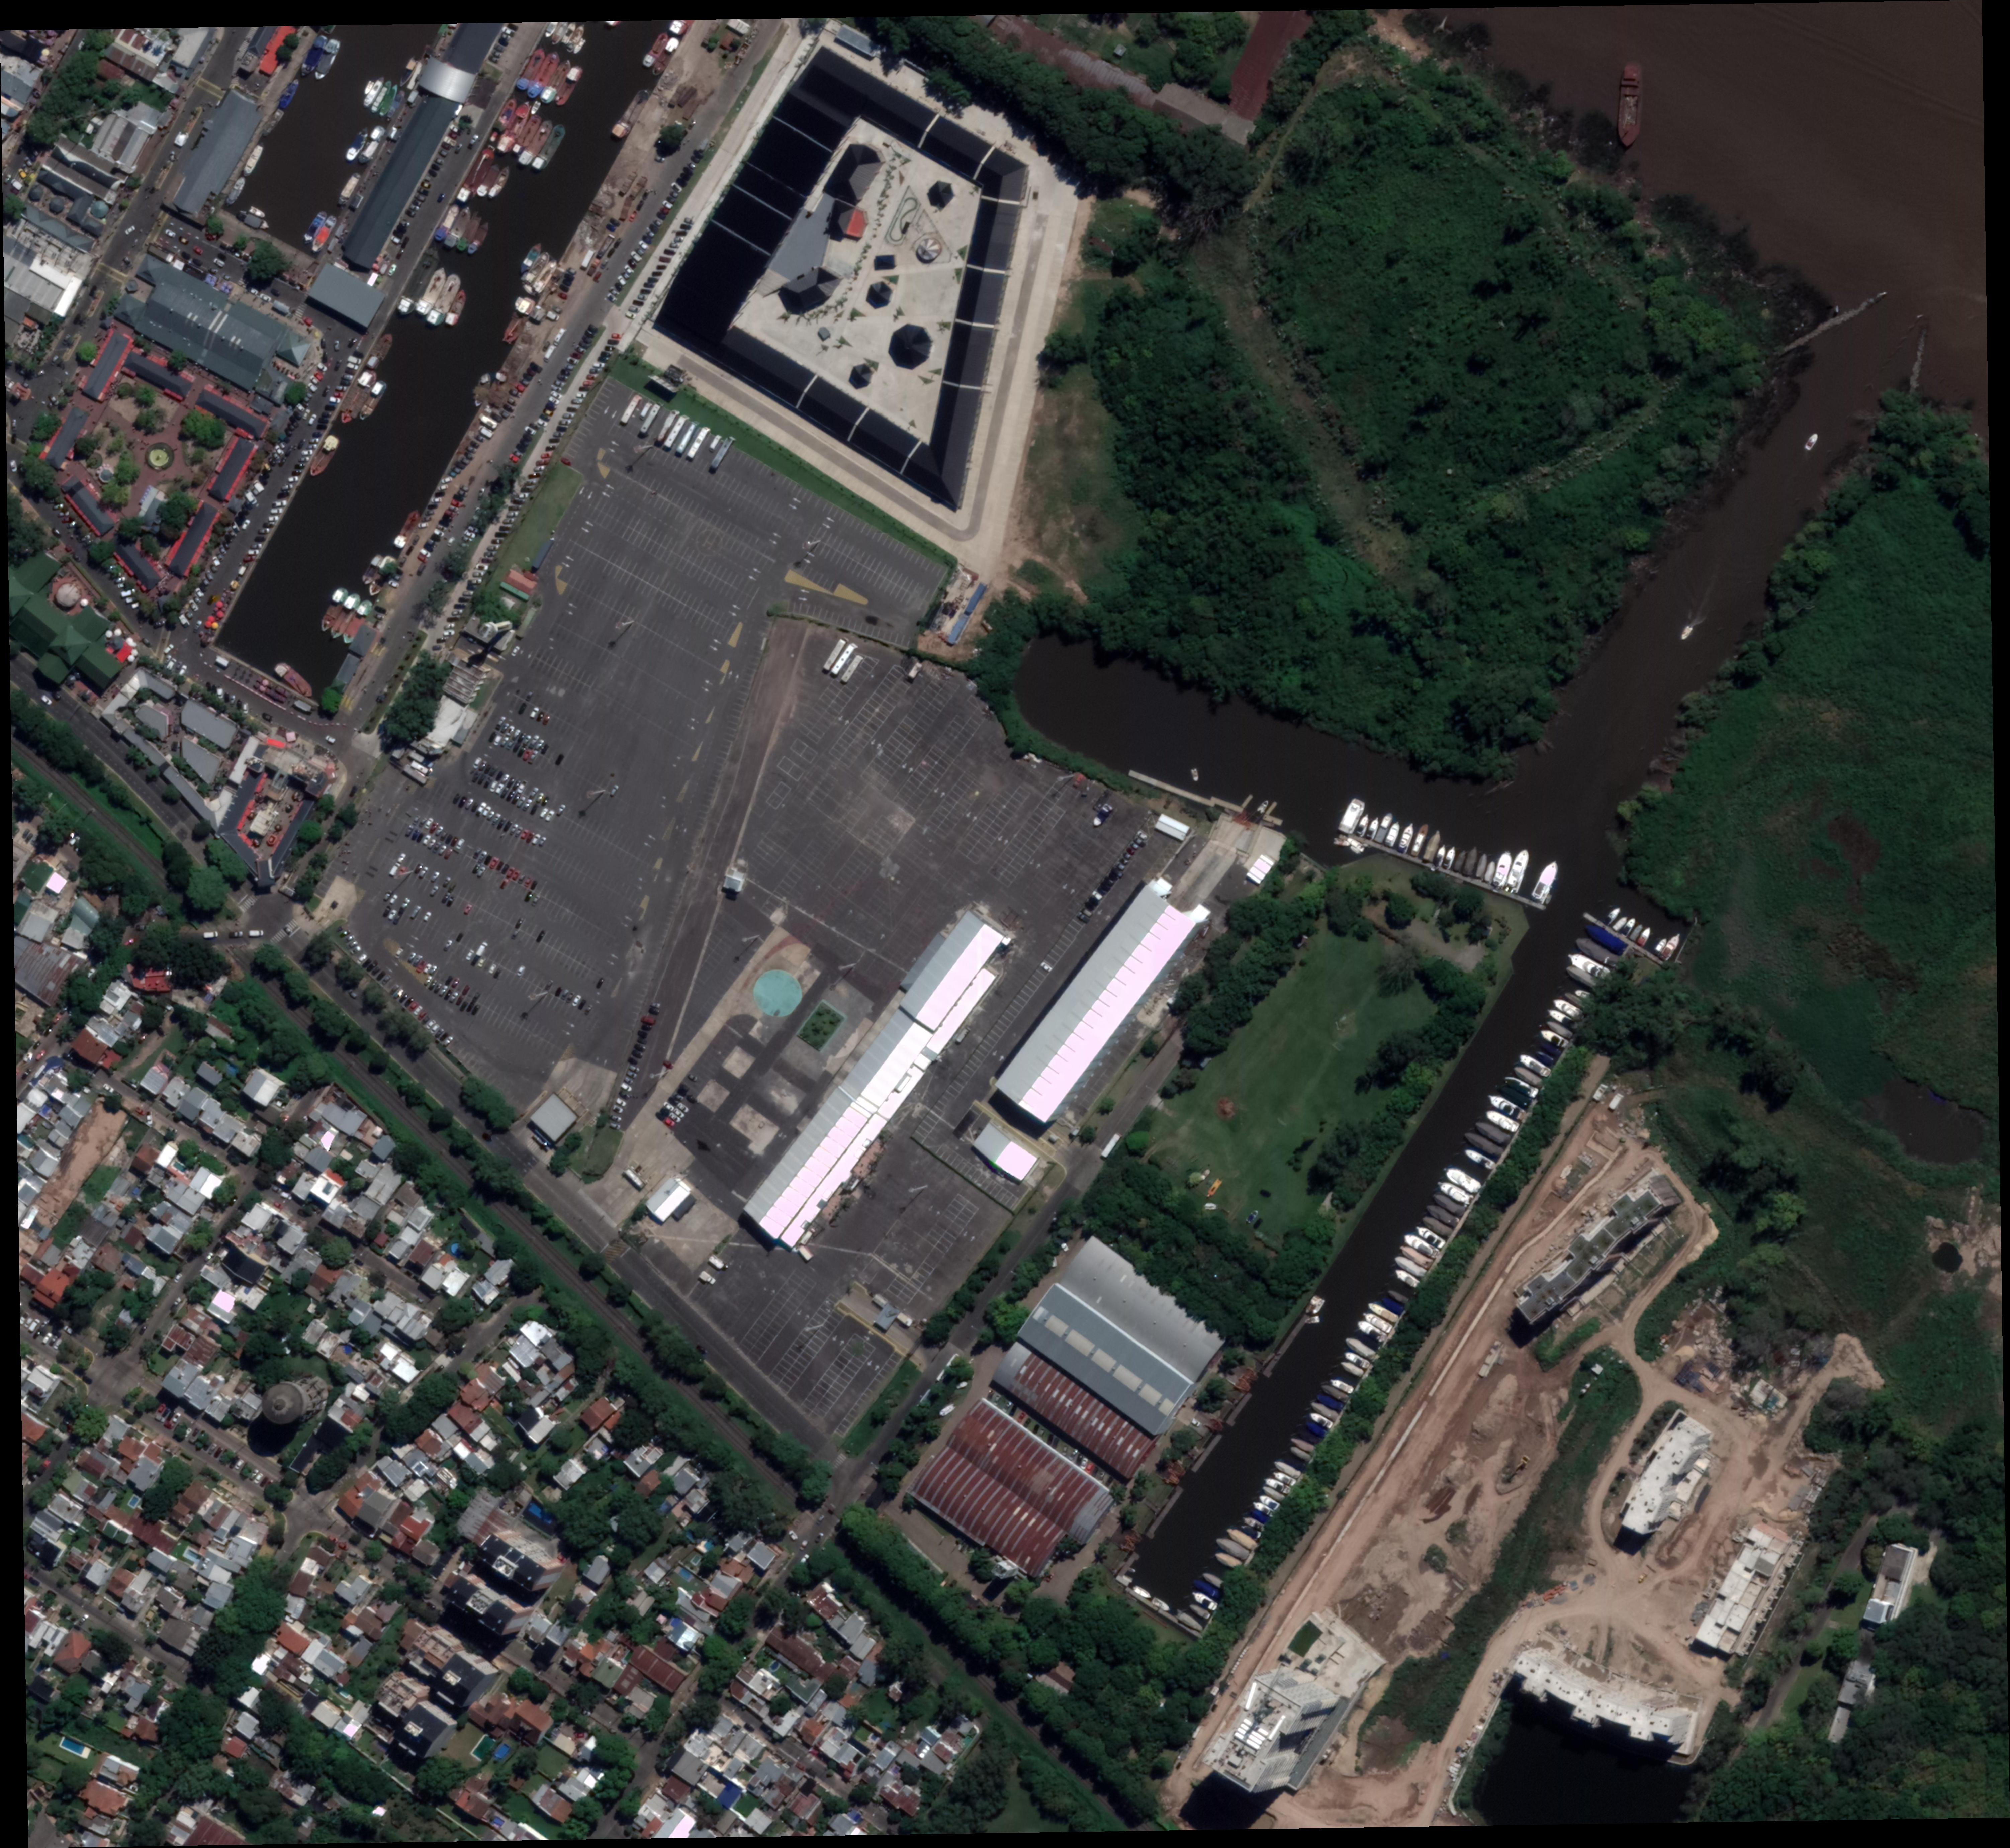ship: (392, 245, 446, 320), (453, 145, 501, 208), (336, 364, 382, 429), (422, 268, 467, 329), (1616, 58, 1646, 150), (492, 98, 538, 158), (609, 84, 655, 142), (513, 116, 559, 170), (497, 292, 541, 348), (524, 47, 566, 102), (529, 119, 571, 173), (411, 264, 452, 320), (271, 656, 319, 702), (536, 56, 576, 107), (326, 590, 364, 642), (338, 597, 375, 649), (305, 432, 343, 481), (308, 37, 345, 88), (1529, 856, 1565, 907), (1564, 947, 1614, 984), (487, 93, 522, 145), (513, 46, 550, 95), (510, 110, 546, 159), (296, 32, 333, 81), (1572, 933, 1621, 970), (317, 585, 352, 635), (354, 378, 390, 425), (1483, 1087, 1529, 1124), (648, 33, 683, 81), (552, 63, 587, 110), (453, 206, 488, 254), (441, 203, 476, 250), (364, 553, 399, 600), (1502, 844, 1534, 896), (390, 506, 425, 551), (1583, 922, 1628, 957), (1439, 1162, 1485, 1197), (1460, 1127, 1507, 1160), (362, 329, 399, 371), (517, 249, 553, 290), (637, 28, 672, 72), (1562, 963, 1609, 994), (1336, 795, 1369, 838), (354, 123, 387, 166), (529, 256, 562, 298), (432, 200, 464, 243), (1212, 1531, 1252, 1565), (308, 214, 340, 256), (1434, 1178, 1476, 1209), (1401, 1230, 1443, 1262), (357, 72, 389, 112), (1472, 1118, 1515, 1148), (443, 285, 471, 329), (299, 208, 331, 247), (1411, 1222, 1450, 1253), (485, 161, 515, 201), (341, 124, 371, 165), (238, 138, 268, 179), (1502, 1071, 1543, 1101), (1481, 1106, 1522, 1136), (1395, 1241, 1436, 1271), (1359, 1306, 1395, 1337), (334, 170, 364, 208), (366, 79, 396, 117), (1550, 994, 1588, 1024), (1509, 1061, 1548, 1090), (1392, 1251, 1430, 1281), (1422, 1201, 1460, 1230), (474, 159, 502, 200), (1490, 847, 1516, 889), (1224, 1523, 1261, 1552), (517, 240, 546, 277), (1656, 928, 1686, 964), (1341, 1332, 1378, 1362), (1516, 1050, 1553, 1080), (375, 81, 403, 119), (466, 219, 494, 257), (1460, 1144, 1499, 1173), (1429, 1190, 1467, 1218), (1353, 1316, 1388, 1346), (1420, 1213, 1455, 1243), (359, 551, 387, 588), (1364, 1299, 1401, 1327), (1544, 1005, 1581, 1033), (473, 367, 495, 411), (1171, 1607, 1206, 1634), (222, 173, 250, 208), (1371, 808, 1397, 845), (1420, 828, 1446, 865), (1317, 1379, 1353, 1405), (259, 107, 287, 140), (1210, 1547, 1245, 1573), (1189, 1575, 1224, 1601), (277, 77, 303, 112), (1306, 1397, 1341, 1423), (1408, 821, 1432, 858), (1460, 842, 1485, 879), (1199, 1568, 1233, 1594), (1537, 1026, 1571, 1052), (1189, 1587, 1220, 1614), (564, 21, 588, 54), (1261, 1474, 1294, 1498), (383, 88, 408, 121), (1390, 1265, 1423, 1290), (1562, 989, 1595, 1013), (1397, 819, 1418, 856), (1271, 1456, 1303, 1481), (1544, 1017, 1576, 1041), (396, 56, 418, 89), (1313, 1391, 1346, 1414), (1089, 802, 1115, 830), (1341, 1348, 1373, 1370), (1336, 1358, 1367, 1381), (1287, 1433, 1318, 1456), (1259, 1482, 1289, 1505), (1306, 1409, 1336, 1432), (1248, 1498, 1278, 1519), (1327, 1376, 1357, 1397), (1383, 817, 1402, 849), (559, 19, 580, 47), (1247, 1507, 1275, 1528), (1240, 1514, 1268, 1535), (1303, 1419, 1331, 1440), (1287, 1442, 1315, 1463), (1441, 842, 1460, 872), (1602, 903, 1625, 928), (1385, 1286, 1411, 1307), (1380, 1295, 1406, 1316), (1353, 810, 1373, 838), (1474, 850, 1492, 880), (1618, 915, 1639, 940), (1271, 1468, 1297, 1487), (1255, 1493, 1282, 1512), (1481, 858, 1500, 884), (1364, 814, 1381, 842), (1649, 935, 1670, 957), (1129, 1582, 1154, 1601), (1149, 1594, 1173, 1614), (1187, 1601, 1212, 1621), (1635, 924, 1655, 949), (1238, 1523, 1264, 1540), (1432, 842, 1450, 868), (1451, 847, 1469, 873), (1304, 1292, 1322, 1316), (1611, 914, 1630, 935), (1803, 431, 1821, 453), (1628, 921, 1646, 943), (937, 1402, 958, 1419), (1346, 837, 1367, 854), (247, 205, 268, 221), (1311, 1297, 1327, 1318), (1243, 1208, 1261, 1225), (573, 37, 588, 56), (1679, 625, 1695, 644), (1255, 798, 1271, 816), (529, 100, 543, 117), (362, 79, 376, 96), (1332, 837, 1352, 849), (1303, 1314, 1322, 1327), (1348, 842, 1362, 856), (1189, 767, 1201, 782), (1544, 893, 1555, 905), (956, 1379, 968, 1390)
